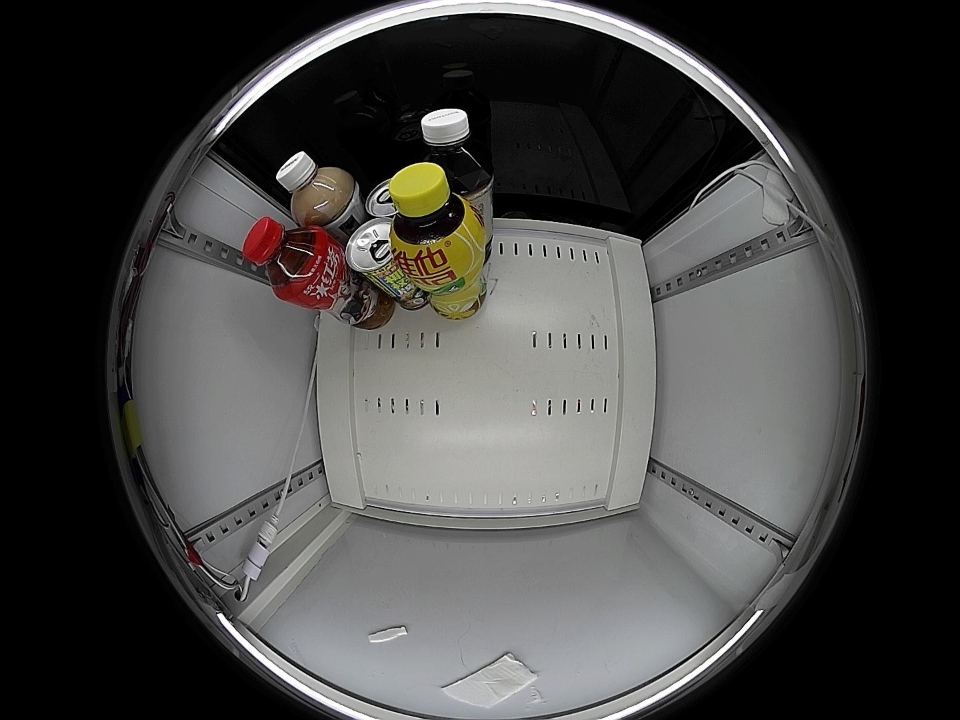binghongcha: (241, 216, 329, 302)
weitaningmeng-bottle: (390, 161, 480, 265)
wuhounaicha: (275, 151, 356, 226)
wulongcha: (417, 107, 492, 188)
yezhi: (345, 217, 400, 281), (364, 176, 397, 220)
